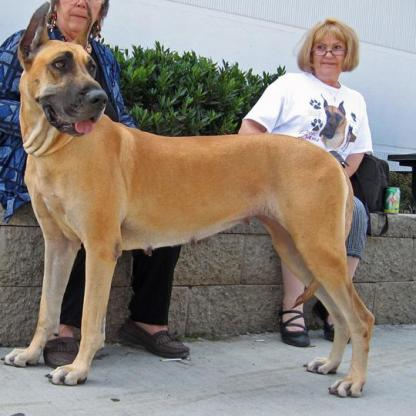Great_Dane: (0, 2, 376, 398)
